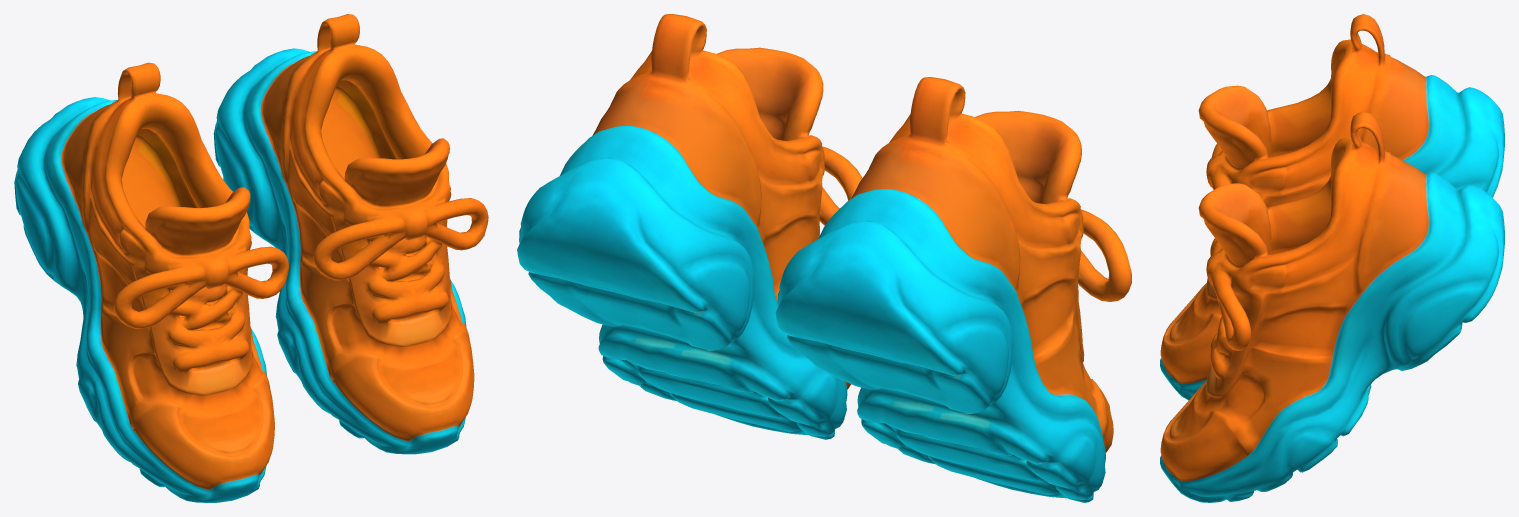
The model's file is sneakerpickup.glb.
The picture shows the model from 3 angles, left to right: view 1: azimuth 30°, elevation 25°; view 2: azimuth 150°, elevation 25°; view 3: azimuth 270°, elevation 25°; orthographic projection. The views are drawn at different scales.
Parts seen in each view (by area): view 1: Mesh_0.004, Mesh_0.006; view 2: Mesh_0.004, Mesh_0.006; view 3: Mesh_0.006, Mesh_0.004.
Boxes of the visible parts, x1,y1,x2,y2 form: Mesh_0.004: [14, 62, 289, 502]; Mesh_0.006: [213, 14, 488, 454]; Mesh_0.004: [775, 77, 1131, 502]; Mesh_0.006: [517, 14, 862, 439]; Mesh_0.006: [1160, 111, 1504, 502]; Mesh_0.004: [1160, 14, 1504, 400].
Bounding box in the file's own units: 0.7048 × 0.6728 × 0.5645.
1 material, 1 textured.
